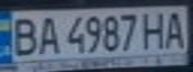4: (63, 12, 84, 54)
7: (118, 10, 142, 52)
8: (100, 11, 124, 52)
9: (81, 12, 106, 53)
A: (160, 8, 190, 50), (33, 13, 60, 55)
B: (6, 15, 42, 56)
H: (139, 9, 172, 50)
